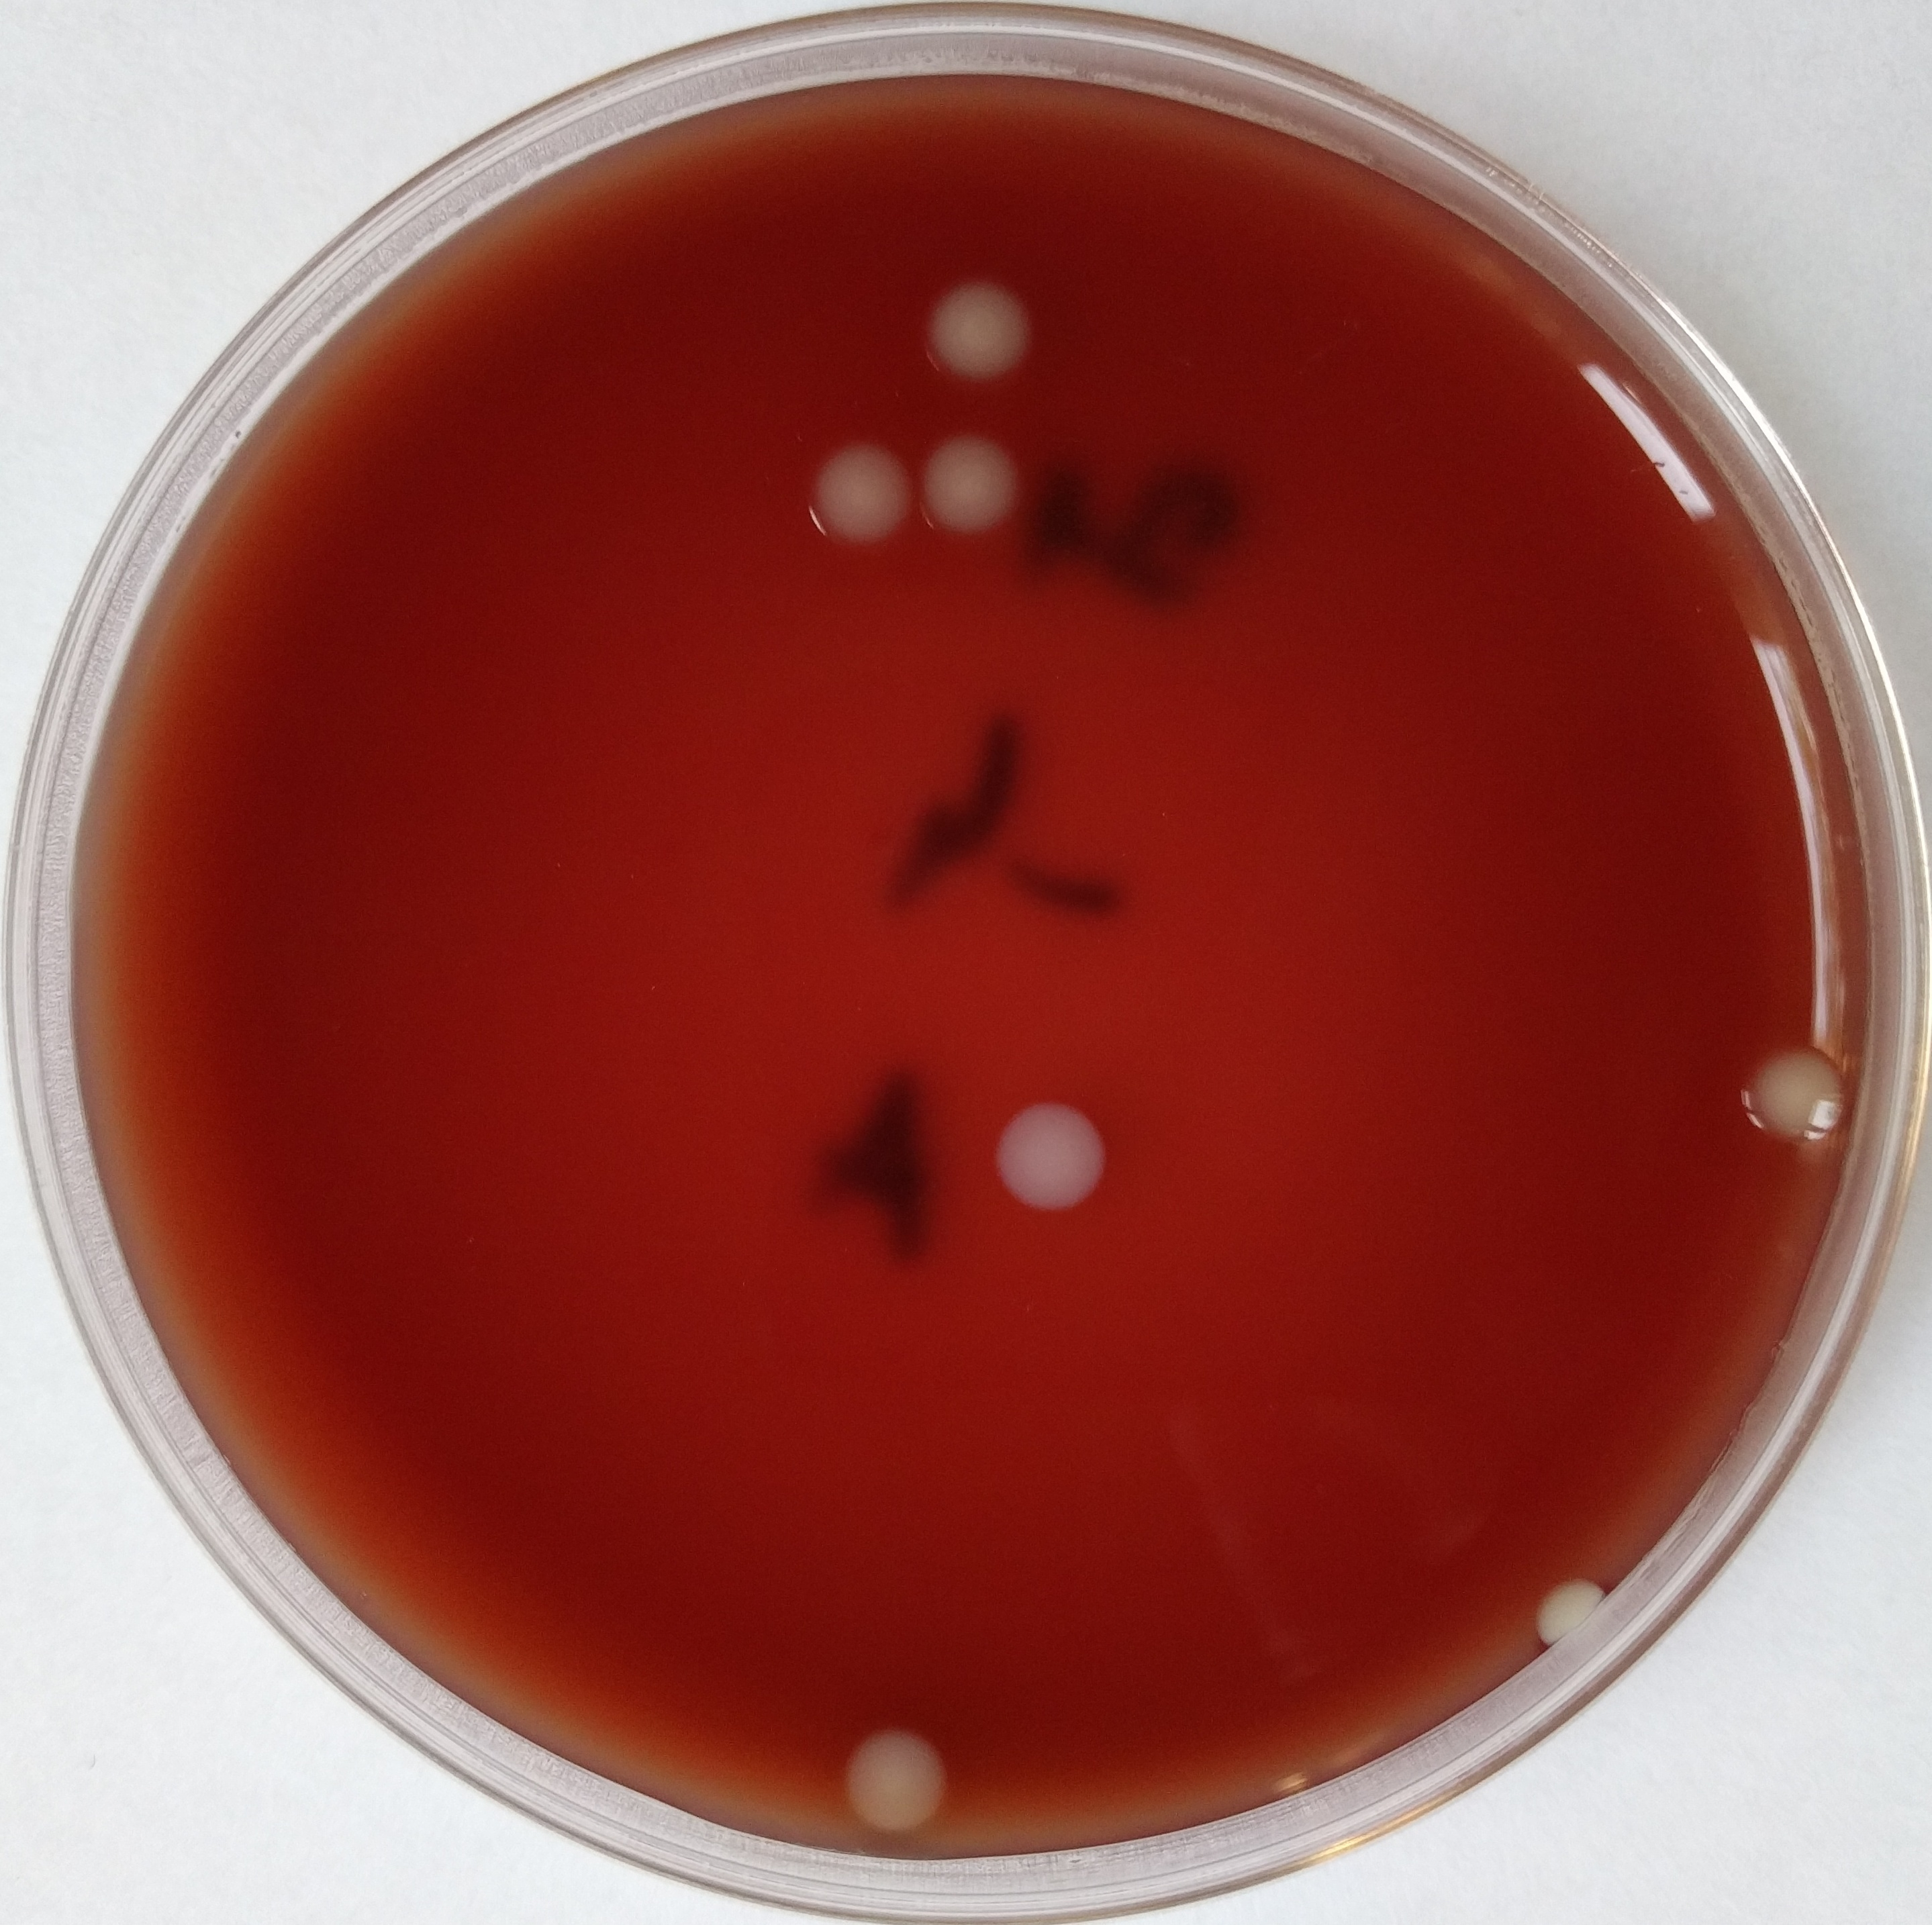sp03: (910, 256, 1066, 400), (823, 1696, 980, 1833), (985, 1095, 1139, 1229), (1729, 1028, 1860, 1165), (788, 430, 917, 548), (924, 430, 1033, 543), (1530, 1562, 1613, 1652)
